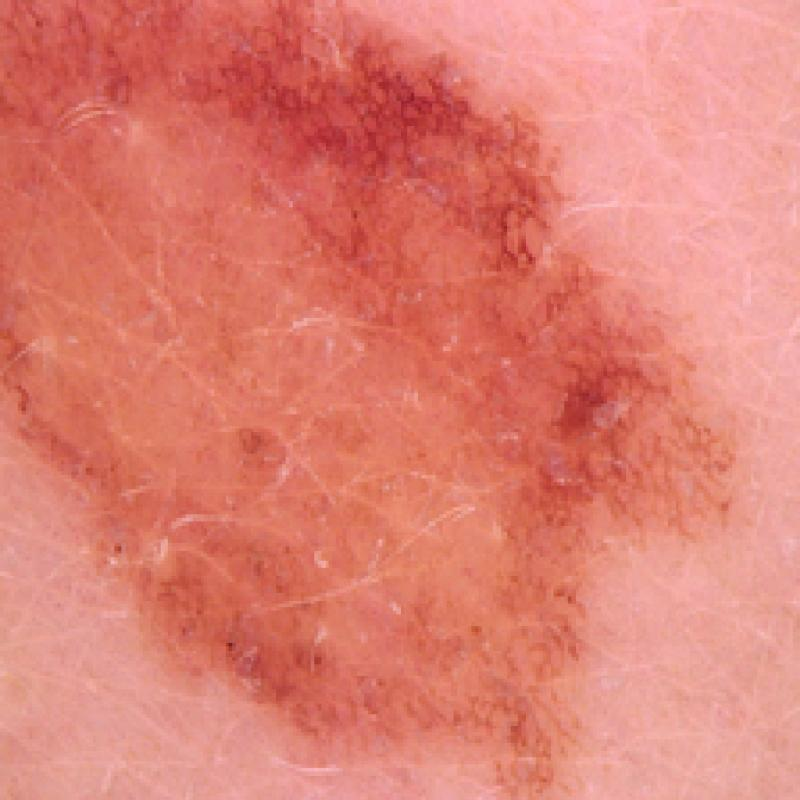benign: (72, 28, 620, 783)
